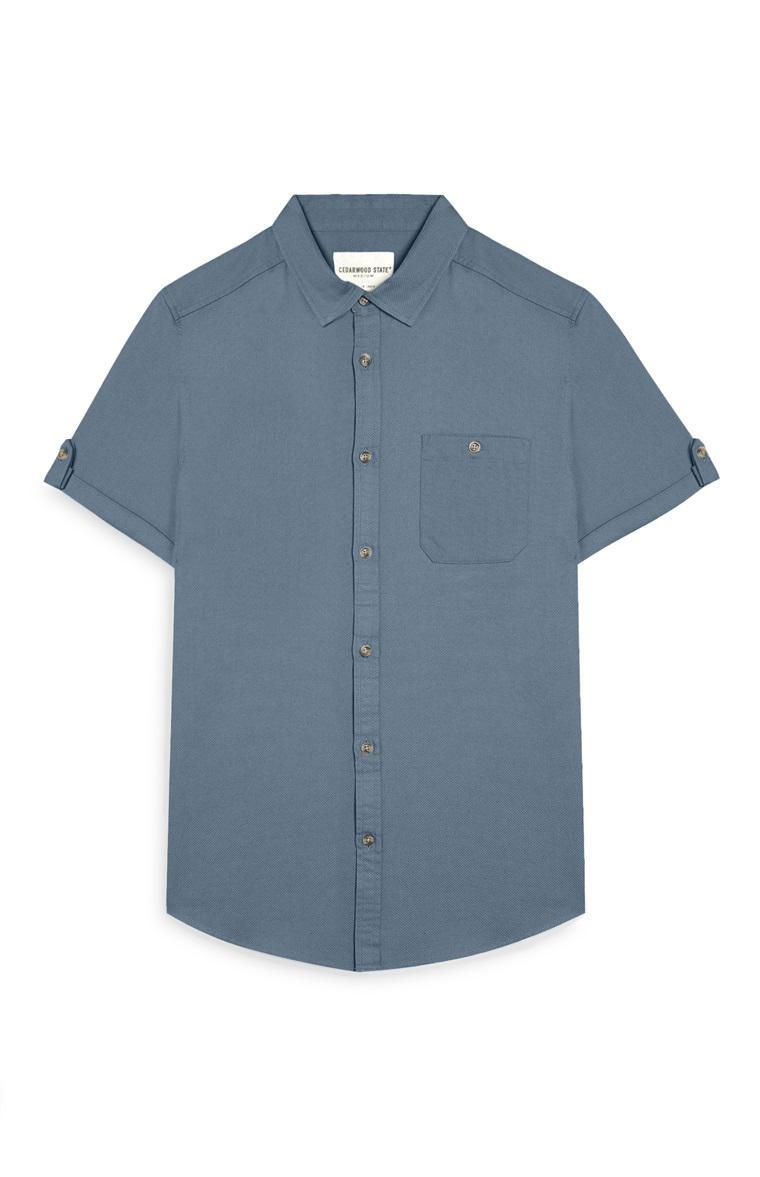teeshirt: (39, 183, 716, 1015)
